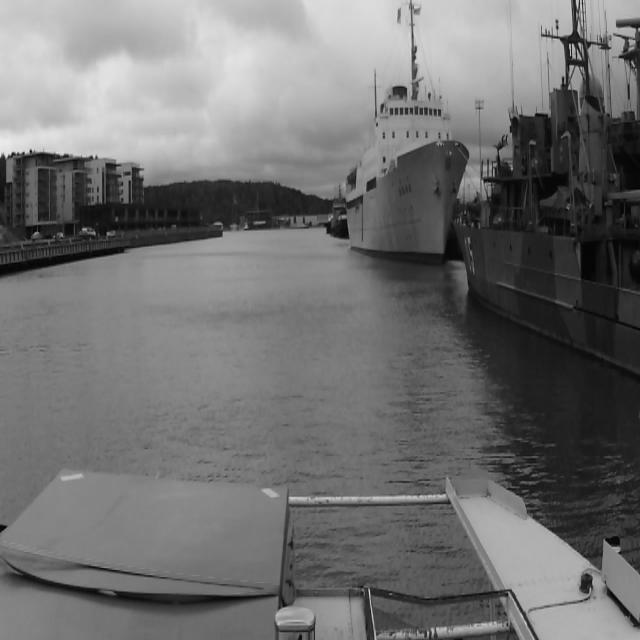ship: (462, 0, 637, 419), (345, 0, 458, 269)
